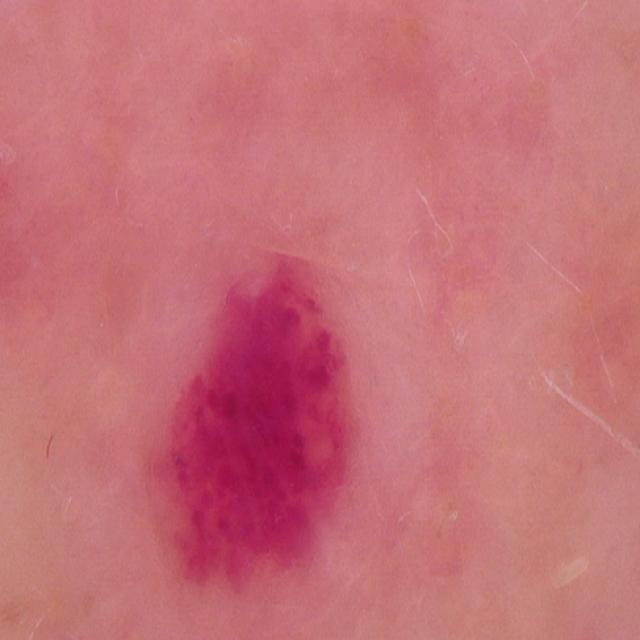Vascular Lesions: (132, 231, 379, 602)
